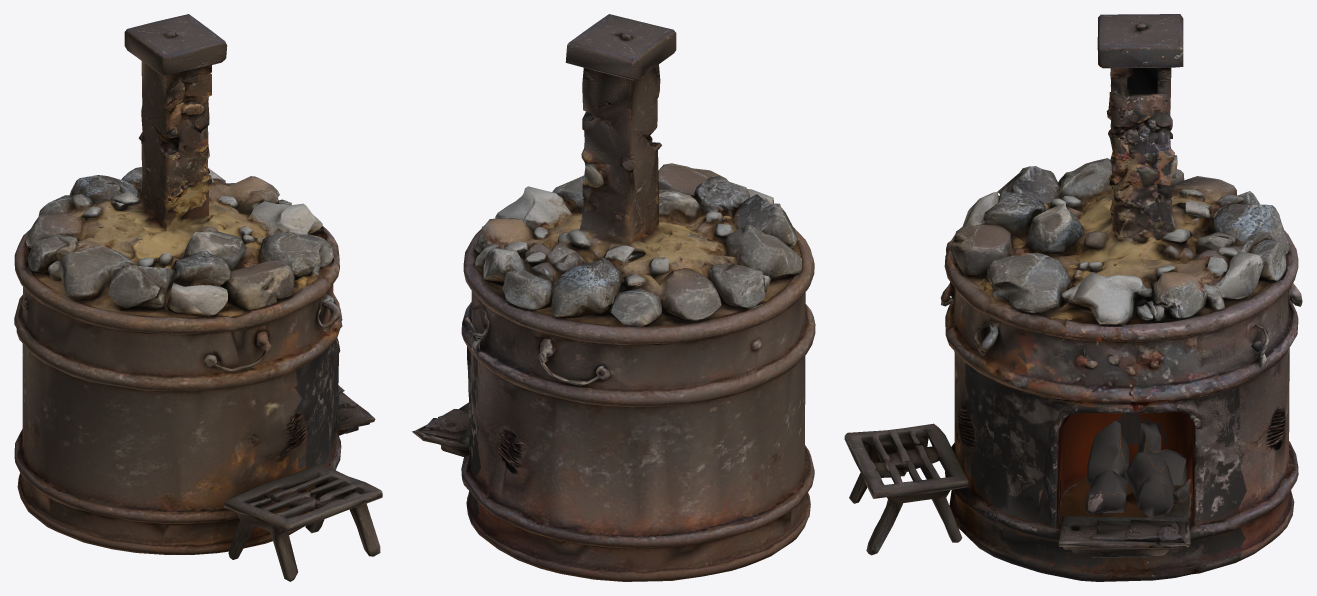
Rendered from forge_hf.glb.
The picture shows the model from 3 angles, left to right: view 1: azimuth 30°, elevation 25°; view 2: azimuth 150°, elevation 25°; view 3: azimuth 270°, elevation 25°; orthographic projection. The views are drawn at different scales.
Visible parts, largest first — view 1: forge_hf; view 2: forge_hf; view 3: forge_hf.
Boxes of the visible parts, <box> form: forge_hf: <box>14,14,382,581</box>; forge_hf: <box>412,14,815,581</box>; forge_hf: <box>844,14,1302,581</box>.
Size of the model in its own units: 0.9726 by 1.3 by 1.11.
Materials: 1 (1 with a texture image).
